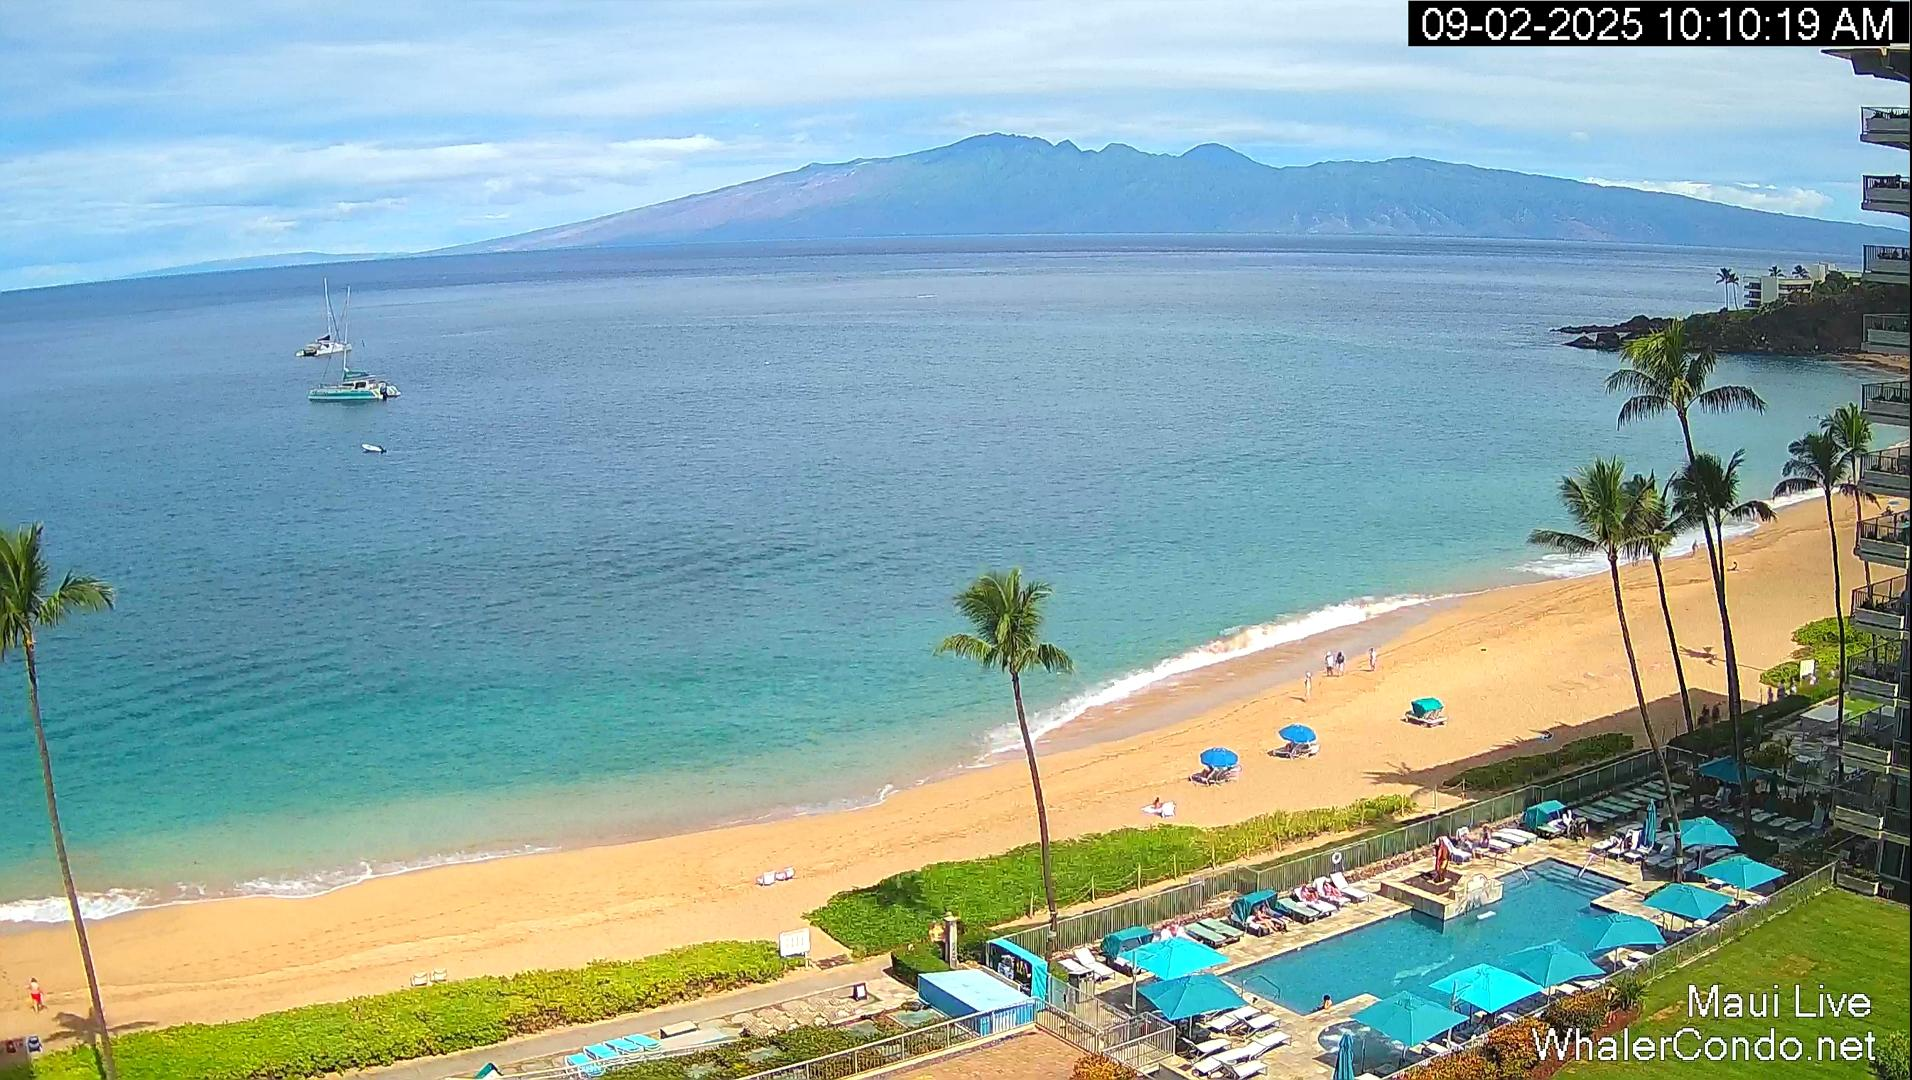boat: (307, 278, 401, 404), (295, 278, 354, 357), (362, 441, 386, 454)
person: (28, 978, 46, 1012), (1254, 904, 1276, 931), (1473, 825, 1489, 861), (1322, 879, 1342, 899), (1302, 885, 1318, 903), (1324, 650, 1334, 676), (1336, 650, 1345, 676), (1777, 677, 1788, 698), (1712, 700, 1721, 725), (1304, 672, 1312, 700), (1160, 924, 1173, 941), (1368, 646, 1376, 672), (1702, 702, 1710, 725), (1322, 994, 1333, 1010), (1691, 539, 1699, 558), (1767, 684, 1774, 705), (1152, 797, 1162, 809)
